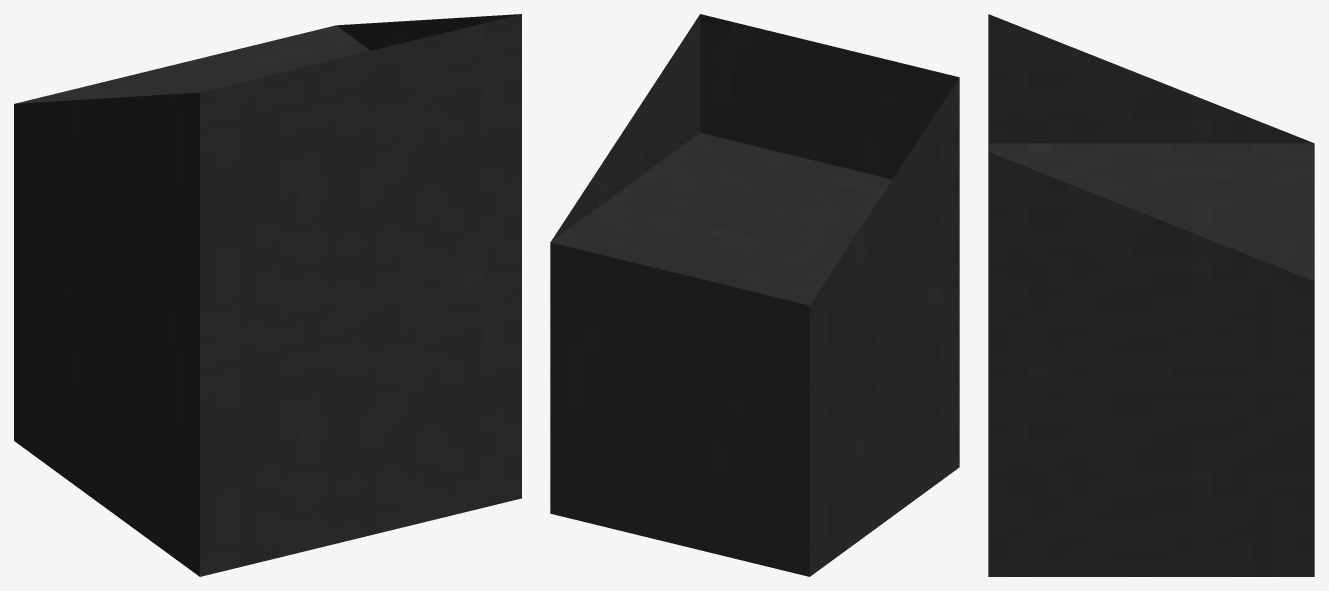
Rendered from block.obj.
3 renders of one model, left to right at view 1: azimuth 30°, elevation 25°; view 2: azimuth 150°, elevation 25°; view 3: azimuth 270°, elevation 25°, orthographic. The views are drawn at different scales.
Visible parts, largest first — view 1: side2_slope7, side15_slope7, side2_slope4, side10_slope7, side16_slope7, side2_slope5, side8_slope7, side9_slope7, side13_slope7, side1, side12_slope7, side2 (+73 smaller); view 2: top, side15_slope7, side16_slope7, side11_slope7, side1, side2, side16, side16_slope6, side6, side13, side9, side7 (+54 smaller); view 3: top, side15_slope7, side16_slope7, side8_slope7, side2_slope5, side16_slope6, side15_slope6, side1, side2, side11, side16, side8 (+69 smaller).
Part boxes in pixels (bbox=[...]): side2_slope7: bbox=[16, 311, 521, 531]; side15_slope7: bbox=[17, 35, 521, 253]; side2_slope4: bbox=[17, 372, 521, 534]; side10_slope7: bbox=[17, 141, 521, 363]; side16_slope7: bbox=[15, 14, 521, 211]; side2_slope5: bbox=[22, 375, 521, 532]; side8_slope7: bbox=[17, 185, 521, 369]; side9_slope7: bbox=[17, 162, 521, 374]; side13_slope7: bbox=[16, 77, 521, 235]; side1: bbox=[14, 420, 521, 576]; side12_slope7: bbox=[15, 98, 521, 321]; side2: bbox=[14, 399, 521, 555]; top: bbox=[551, 132, 891, 305]; side15_slope7: bbox=[603, 31, 959, 312]; side16_slope7: bbox=[553, 14, 959, 302]; side11_slope7: bbox=[658, 99, 959, 382]; side1: bbox=[550, 450, 959, 576]; side2: bbox=[550, 433, 959, 559]; side16: bbox=[550, 203, 959, 322]; side16_slope6: bbox=[552, 31, 959, 301]; side6: bbox=[550, 372, 959, 491]; side13: bbox=[550, 247, 959, 373]; side9: bbox=[550, 320, 959, 441]; side7: bbox=[550, 350, 958, 474]; top: bbox=[988, 143, 1314, 280]; side15_slope7: bbox=[988, 32, 1303, 295]; side16_slope7: bbox=[988, 14, 1311, 280]; side8_slope7: bbox=[988, 301, 1301, 426]; side2_slope5: bbox=[988, 450, 1308, 539]; side16_slope6: bbox=[988, 33, 1312, 280]; side15_slope6: bbox=[988, 51, 1310, 299]; side1: bbox=[988, 558, 1314, 576]; side2: bbox=[988, 540, 1314, 558]; side11: bbox=[988, 373, 1314, 392]; side16: bbox=[988, 281, 1314, 299]; side8: bbox=[988, 429, 1314, 447].
Bounding box in the file's own units: 1 × 1.44 × 1.
1 material, 1 textured.
